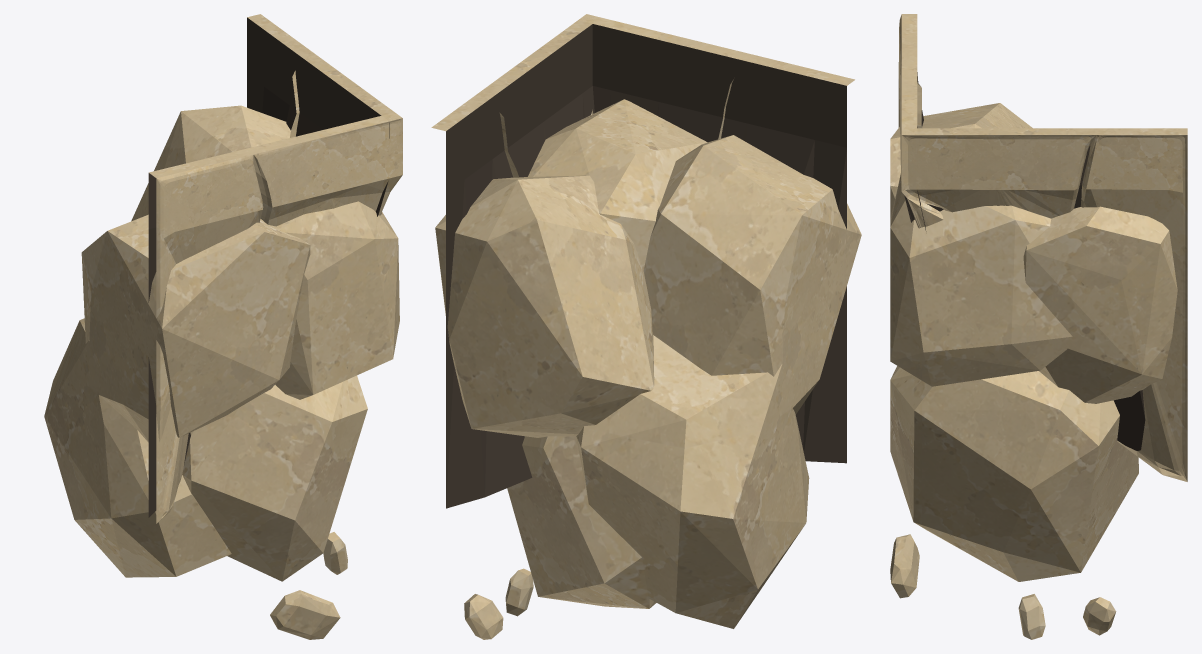
The model's file is ground_bottom_square_corner_03.glb.
The picture shows the model from 3 angles, left to right: view 1: azimuth 30°, elevation 25°; view 2: azimuth 150°, elevation 25°; view 3: azimuth 270°, elevation 25°; orthographic projection. The views are drawn at different scales.
Visible parts, largest first — view 1: GroundBottomSquareCorner03_Body; view 2: GroundBottomSquareCorner03_Body; view 3: GroundBottomSquareCorner03_Body.
Boxes of the visible parts, bbox=[...] form: GroundBottomSquareCorner03_Body: bbox=[44, 14, 402, 639]; GroundBottomSquareCorner03_Body: bbox=[431, 14, 861, 639]; GroundBottomSquareCorner03_Body: bbox=[890, 14, 1187, 639].
Size of the model in its own units: 1.04 by 1.95 by 1.04.
Materials: 8 (7 with a texture image).
